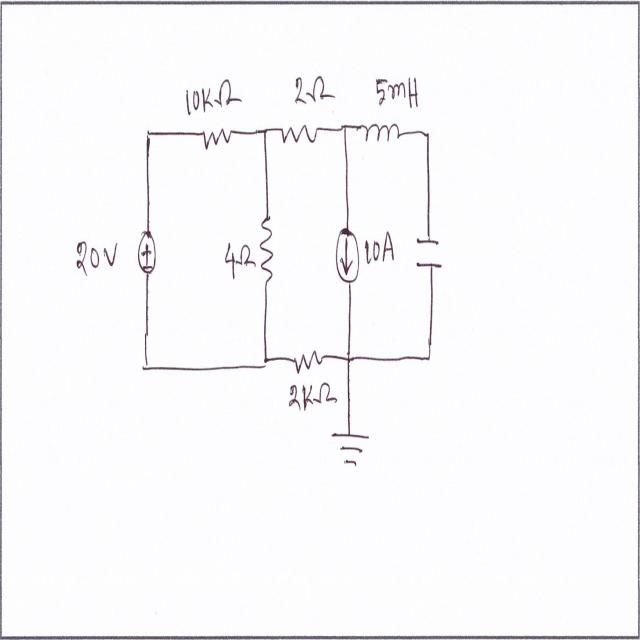capacitor: (415, 232, 444, 278)
current_source: (334, 225, 360, 289)
ground: (331, 425, 370, 470)
inductor: (359, 114, 400, 155)
resistor: (281, 114, 320, 154), (200, 125, 235, 155), (260, 215, 276, 280), (291, 349, 325, 379)
voltage_source: (134, 228, 160, 278)
